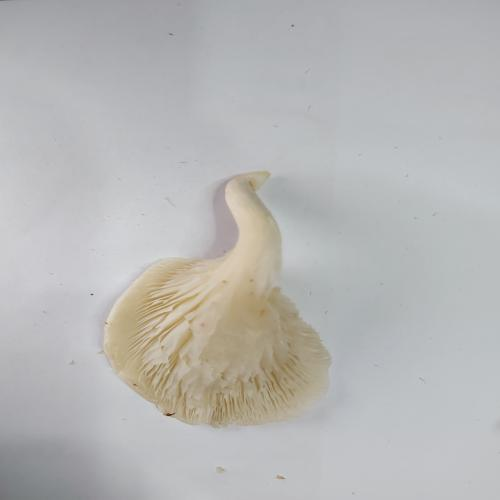Oyster Mushroom: (101, 169, 333, 428)
